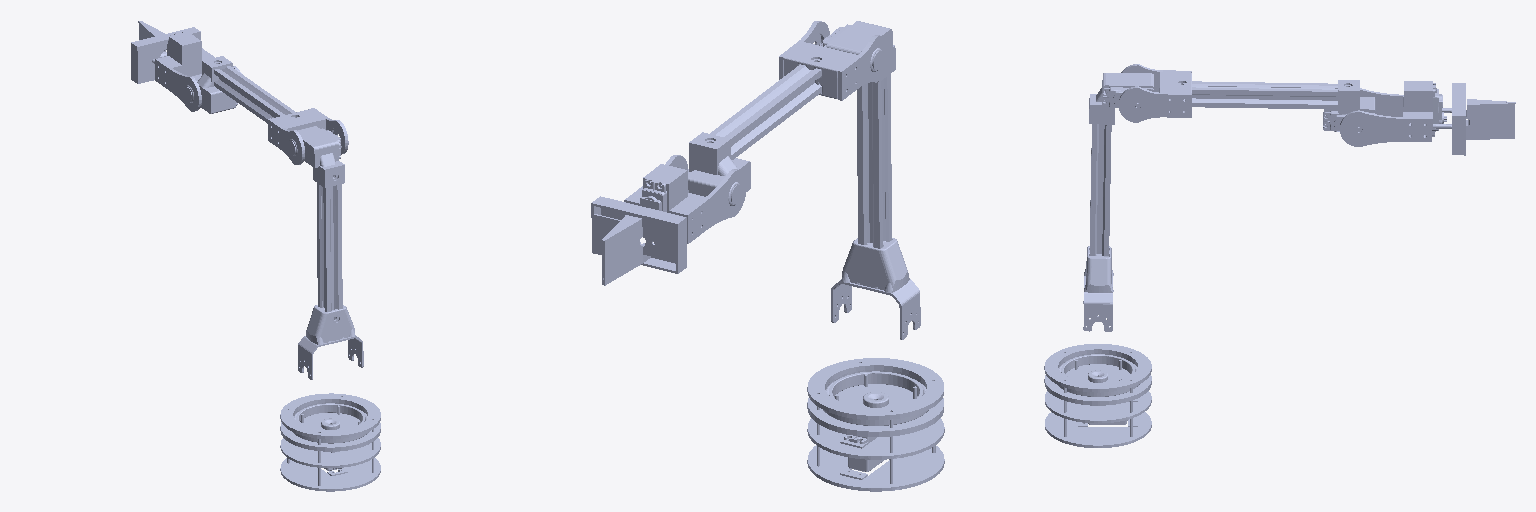
URDF robot description (robot_arm_description):
<?xml version="1.0" encoding="utf-8"?>
<!-- This URDF was automatically created by SolidWorks to URDF Exporter! Originally created by [author] ([email redacted]) 
     Commit Version: 1.6.0-4-g7f85cfe  Build Version: 1.6.7995.38578
     For more information, please see http://wiki.ros.org/sw_urdf_exporter -->
<robot
  name="robot_arm_description">
  <link
    name="base_link">
    <inertial>
      <origin
        xyz="6.1798E-05 0.0014638 0.036925"
        rpy="0 0 0" />
      <mass
        value="0.16592" />
      <inertia
        ixx="0.00011989"
        ixy="6.4845E-10"
        ixz="1.4076E-10"
        iyy="0.00011718"
        iyz="7.8773E-08"
        izz="0.00022943" />
    </inertial>
    <visual>
      <origin
        xyz="0 0 0"
        rpy="0 0 0" />
      <geometry>
        <mesh
          filename="package://robot_arm_description/meshes/base_link.STL" />
      </geometry>
      <material
        name="">
        <color
          rgba="0.79216 0.81961 0.93333 1" />
      </material>
    </visual>
    <collision>
      <origin
        xyz="0 0 0"
        rpy="0 0 0" />
      <geometry>
        <mesh
          filename="package://robot_arm_description/meshes/base_link.STL" />
      </geometry>
    </collision>
  </link>
  <link
    name="link_1">
    <inertial>
      <origin
        xyz="2.6152E-08 0.035089 0.00070571"
        rpy="0 0 0" />
      <mass
        value="0.088226" />
      <inertia
        ixx="3.5564E-05"
        ixy="-7.7325E-09"
        ixz="3.0407E-12"
        iyy="2.4365E-05"
        iyz="-3.8251E-08"
        izz="3.8253E-05" />
    </inertial>
    <visual>
      <origin
        xyz="0 0 0"
        rpy="0 0 0" />
      <geometry>
        <mesh
          filename="package://robot_arm_description/meshes/link_1.STL" />
      </geometry>
      <material
        name="">
        <color
          rgba="0.79216 0.81961 0.93333 1" />
      </material>
    </visual>
    <collision>
      <origin
        xyz="0 0 0"
        rpy="0 0 0" />
      <geometry>
        <mesh
          filename="package://robot_arm_description/meshes/link_1.STL" />
      </geometry>
    </collision>
  </link>
  <joint
    name="joint_1"
    type="revolute">
    <origin
      xyz="0 0 0.063"
      rpy="1.5708 0 1.5708" />
    <parent
      link="base_link" />
    <child
      link="link_1" />
    <axis
      xyz="0 1 0" />
    <limit
      lower="1.57"
      upper="-1.57"
      effort="1.35"
      velocity="5.5" />
  </joint>
  <link
    name="link_2">
    <inertial>
      <origin
        xyz="-7.7387E-05 0.015464 -0.15988"
        rpy="0 0 0" />
      <mass
        value="0.12853" />
      <inertia
        ixx="0.00013873"
        ixy="-6.7888E-07"
        ixz="5.6388E-07"
        iyy="0.00013845"
        iyz="6.6229E-06"
        izz="3.5101E-05" />
    </inertial>
    <visual>
      <origin
        xyz="0 0 0"
        rpy="0 0 0" />
      <geometry>
        <mesh
          filename="package://robot_arm_description/meshes/link_2.STL" />
      </geometry>
      <material
        name="">
        <color
          rgba="0.79216 0.81961 0.93333 1" />
      </material>
    </visual>
    <collision>
      <origin
        xyz="0 0 0"
        rpy="0 0 0" />
      <geometry>
        <mesh
          filename="package://robot_arm_description/meshes/link_2.STL" />
      </geometry>
    </collision>
  </link>
  <joint
    name="joint_2"
    type="revolute">
    <origin
      xyz="0 0.064 0"
      rpy="1.5533 1.5708 0" />
    <parent
      link="link_1" />
    <child
      link="link_2" />
    <axis
      xyz="1 0 0" />
    <limit
      lower="1.57"
      upper="-1.57"
      effort="1.35"
      velocity="5.5" />
  </joint>
  <link
    name="link_3">
    <inertial>
      <origin
        xyz="0.012111 0.12658 -0.021361"
        rpy="0 0 0" />
      <mass
        value="0.14257" />
      <inertia
        ixx="0.00014411"
        ixy="-1.8273E-05"
        ixz="6.0496E-07"
        iyy="3.4503E-05"
        iyz="2.3073E-05"
        izz="0.00014132" />
    </inertial>
    <visual>
      <origin
        xyz="0 0 0"
        rpy="0 0 0" />
      <geometry>
        <mesh
          filename="package://robot_arm_description/meshes/link_3.STL" />
      </geometry>
      <material
        name="">
        <color
          rgba="0.79216 0.81961 0.93333 1" />
      </material>
    </visual>
    <collision>
      <origin
        xyz="0 0 0"
        rpy="0 0 0" />
      <geometry>
        <mesh
          filename="package://robot_arm_description/meshes/link_3.STL" />
      </geometry>
    </collision>
  </link>
  <joint
    name="joint_3"
    type="revolute">
    <origin
      xyz="0 0.045308 -0.25017"
      rpy="0.35539 0.63117 0.21561" />
    <parent
      link="link_2" />
    <child
      link="link_3" />
    <axis
      xyz="-0.78864 0 -0.61485" />
    <limit
      lower="1.57"
      upper="-1.57"
      effort="1.35"
      velocity="5.5" />
  </joint>
  <link
    name="link_4">
    <inertial>
      <origin
        xyz="0.022298 0.043462 -0.037899"
        rpy="0 0 0" />
      <mass
        value="0.1006" />
      <inertia
        ixx="3.8126E-05"
        ixy="-1.0716E-06"
        ixz="-7.7732E-07"
        iyy="3.8485E-05"
        iyz="1.7538E-06"
        izz="3.9102E-05" />
    </inertial>
    <visual>
      <origin
        xyz="0 0 0"
        rpy="0 0 0" />
      <geometry>
        <mesh
          filename="package://robot_arm_description/meshes/link_4.STL" />
      </geometry>
      <material
        name="">
        <color
          rgba="0.79216 0.81961 0.93333 1" />
      </material>
    </visual>
    <collision>
      <origin
        xyz="0 0 0"
        rpy="0 0 0" />
      <geometry>
        <mesh
          filename="package://robot_arm_description/meshes/link_4.STL" />
      </geometry>
    </collision>
  </link>
  <joint
    name="joint_4"
    type="revolute">
    <origin
      xyz="0.020718 0.22568 -0.026574"
      rpy="0.35965 -0.050844 0.27795" />
    <parent
      link="link_3" />
    <child
      link="link_4" />
    <axis
      xyz="-0.78864 0 -0.61485" />
    <limit
      lower="1.57"
      upper="-1.57"
      effort="1.35"
      velocity="5.5" />
  </joint>
  <link
    name="link_5">
    <inertial>
      <origin
        xyz="0.19371 0.41234 -0.10632"
        rpy="0 0 0" />
      <mass
        value="0.0095399" />
      <inertia
        ixx="2.2249E-06"
        ixy="-3.9768E-07"
        ixz="7.8333E-07"
        iyy="1.7553E-06"
        iyz="2.2835E-07"
        izz="2.8965E-06" />
    </inertial>
    <visual>
      <origin
        xyz="0 0 0"
        rpy="0 0 0" />
      <geometry>
        <mesh
          filename="package://robot_arm_description/meshes/link_5.STL" />
      </geometry>
      <material
        name="">
        <color
          rgba="0.79216 0.81961 0.93333 1" />
      </material>
    </visual>
    <collision>
      <origin
        xyz="0 0 0"
        rpy="0 0 0" />
      <geometry>
        <mesh
          filename="package://robot_arm_description/meshes/link_5.STL" />
      </geometry>
    </collision>
  </link>
  <joint
    name="joint_5"
    type="prismatic">
    <origin
      xyz="-0.21116 0.021122 0.31578"
      rpy="-2.0002 0.60545 1.964" />
    <parent
      link="link_4" />
    <child
      link="link_5" />
    <axis
      xyz="0.59842 0 0.80119" />
    <limit
      lower="0"
      upper="-0.03"
      effort="1.35"
      velocity="5.5" />
  </joint>
  <link
    name="link_6">
    <inertial>
      <origin
        xyz="0.15611 0.41234 0.15665"
        rpy="0 0 0" />
      <mass
        value="0.0095399" />
      <inertia
        ixx="2.2249E-06"
        ixy="-3.9768E-07"
        ixz="-7.8333E-07"
        iyy="1.7553E-06"
        iyz="-2.2835E-07"
        izz="2.8965E-06" />
    </inertial>
    <visual>
      <origin
        xyz="0 0 0"
        rpy="0 0 0" />
      <geometry>
        <mesh
          filename="package://robot_arm_description/meshes/link_6.STL" />
      </geometry>
      <material
        name="">
        <color
          rgba="0.79216 0.81961 0.93333 1" />
      </material>
    </visual>
    <collision>
      <origin
        xyz="0 0 0"
        rpy="0 0 0" />
      <geometry>
        <mesh
          filename="package://robot_arm_description/meshes/link_6.STL" />
      </geometry>
    </collision>
  </link>
  <joint
    name="joint_6"
    type="prismatic">
    <origin
      xyz="-0.21426 0.021122 0.31336"
      rpy="-2.281 -0.16752 0.87925" />
    <parent
      link="link_4" />
    <child
      link="link_6" />
    <axis
      xyz="-0.59842 0 0.80119" />
    <limit
      lower="0"
      upper="0"
      effort="0"
      velocity="0" />
    <mimic
      joint="joint_5"
      multiplier="-1"
      offset="0" />
  </joint>
</robot>

--- Render facts (derived) ---
Views: 3 orthographic renders of the robot side by side, from view 1: azimuth 30°, elevation 25°; view 2: azimuth 150°, elevation 25°; view 3: azimuth 270°, elevation 25°.
Model robot_arm_description with 7 links and 6 joints (4 revolute, 2 prismatic), rooted at base_link, posed all joints at 0.
Links seen in each view (by area): view 1: base_link, link_2, link_3, link_4; view 2: base_link, link_2, link_3, link_4, link_5; view 3: base_link, link_3, link_2, link_4, link_6.
Boxes of the visible links, x1,y1,x2,y2 form: base_link: (280,393,380,491); link_2: (288,126,363,379); link_3: (184,56,348,164); link_4: (131,27,241,111); base_link: (807,358,944,491); link_2: (819,21,920,339); link_3: (688,21,888,203); link_4: (591,155,746,273); link_5: (603,217,650,285); base_link: (1044,344,1151,447); link_3: (1119,64,1375,131); link_2: (1083,73,1153,331); link_4: (1340,81,1465,155); link_6: (1466,102,1515,139).
Bounding box of the posed robot: 0.11 × 0.4826 × 0.3979 m (x, y, z).
6 mesh visuals loaded from 7 distinct referenced files (6 binary STL); not drawn: 1 (file found but could not be loaded).